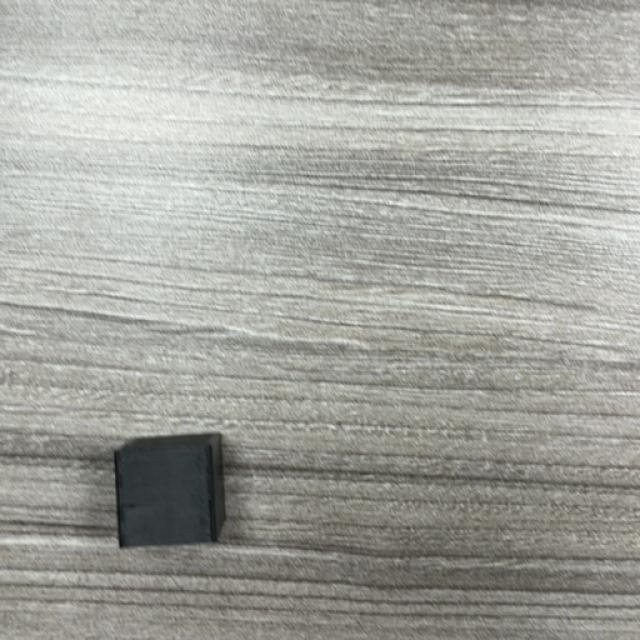Negro: (112, 432, 228, 550)
